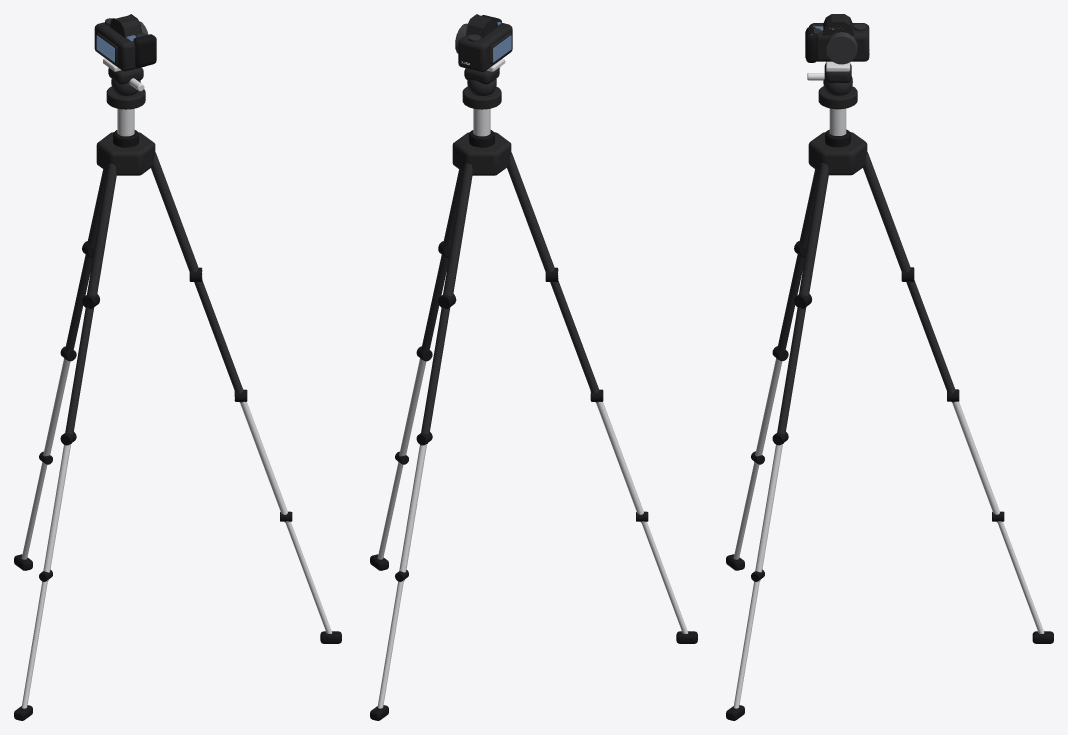
Rendered from fujifilm_xh2s_tripie_foto.glb.
The picture shows the model from 3 angles, left to right: view 1: azimuth 30°, elevation 25°; view 2: azimuth 150°, elevation 25°; view 3: azimuth 270°, elevation 25°; orthographic projection.
Visible parts, largest first — view 1: Fujifilm X-H2S en tripié de foto; view 2: Fujifilm X-H2S en tripié de foto; view 3: Fujifilm X-H2S en tripié de foto.
Boxes of the visible parts, <box> form: Fujifilm X-H2S en tripié de foto: <box>14,14,341,720</box>; Fujifilm X-H2S en tripié de foto: <box>370,14,697,720</box>; Fujifilm X-H2S en tripié de foto: <box>726,14,1053,720</box>.
Size of the model in its own units: 0.7915 by 1.44 by 0.6873.
